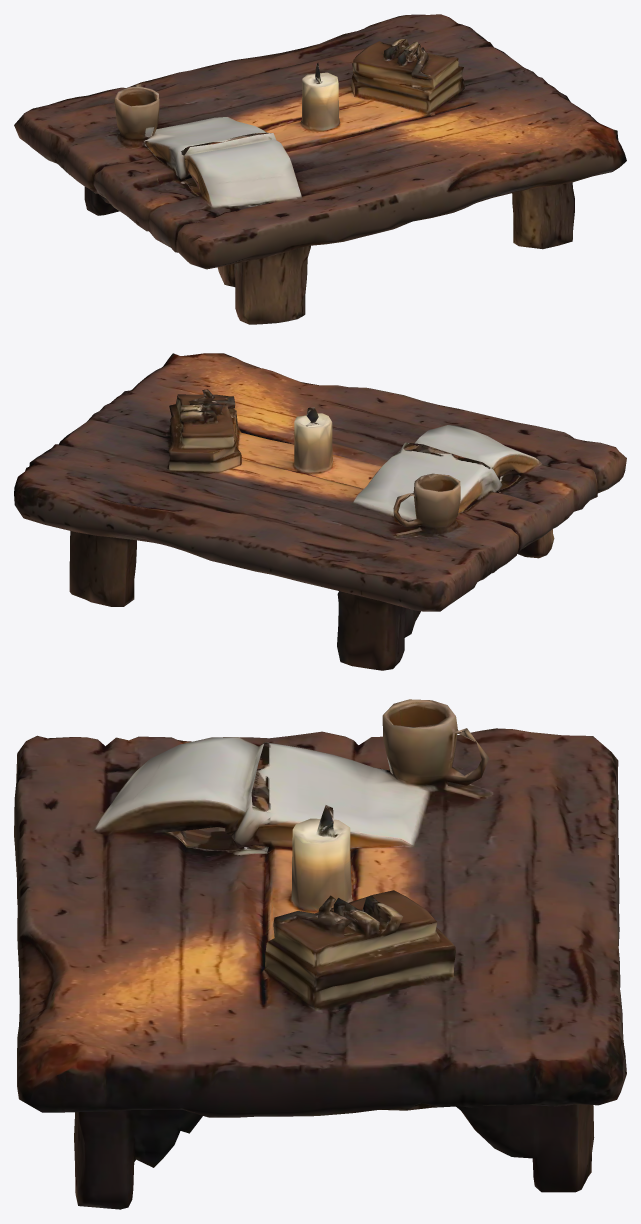
The model's file is table.glb.
The picture shows the model from 3 angles, top to bottom: view 1: azimuth 30°, elevation 25°; view 2: azimuth 150°, elevation 25°; view 3: azimuth 270°, elevation 25°; orthographic projection. The views are drawn at different scales.
Visible parts, largest first — view 1: Mesh1.0; view 2: Mesh1.0; view 3: Mesh1.0.
Part boxes in pixels (x1,y1,x2,y2): Mesh1.0: [14, 14, 626, 324]; Mesh1.0: [14, 353, 626, 670]; Mesh1.0: [14, 699, 626, 1209].
Bounding box in the file's own units: 1.91 × 0.6859 × 1.46.
Materials: 1 (1 with a texture image).
